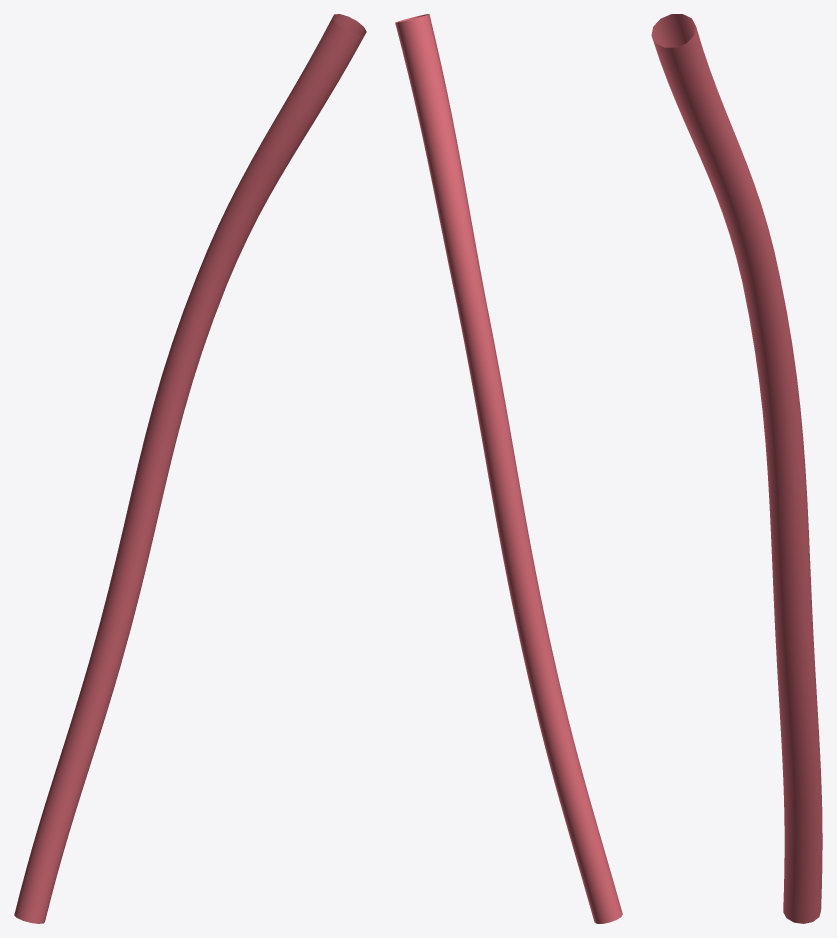
3 views of the same model, side by side, from view 1: azimuth 30°, elevation 25°; view 2: azimuth 150°, elevation 25°; view 3: azimuth 270°, elevation 25° (orthographic). The views are drawn at different scales.
Visible parts, largest first — view 1: ZA_a7f67b6603531b44; view 2: ZA_a7f67b6603531b44; view 3: ZA_a7f67b6603531b44.
Part boxes in pixels (<box>): ZA_a7f67b6603531b44: <box>14,14,366,923</box>; ZA_a7f67b6603531b44: <box>395,14,622,923</box>; ZA_a7f67b6603531b44: <box>651,14,822,923</box>.
Bounding box in the file's own units: 0.0266 × 0.076 × 0.0112.
